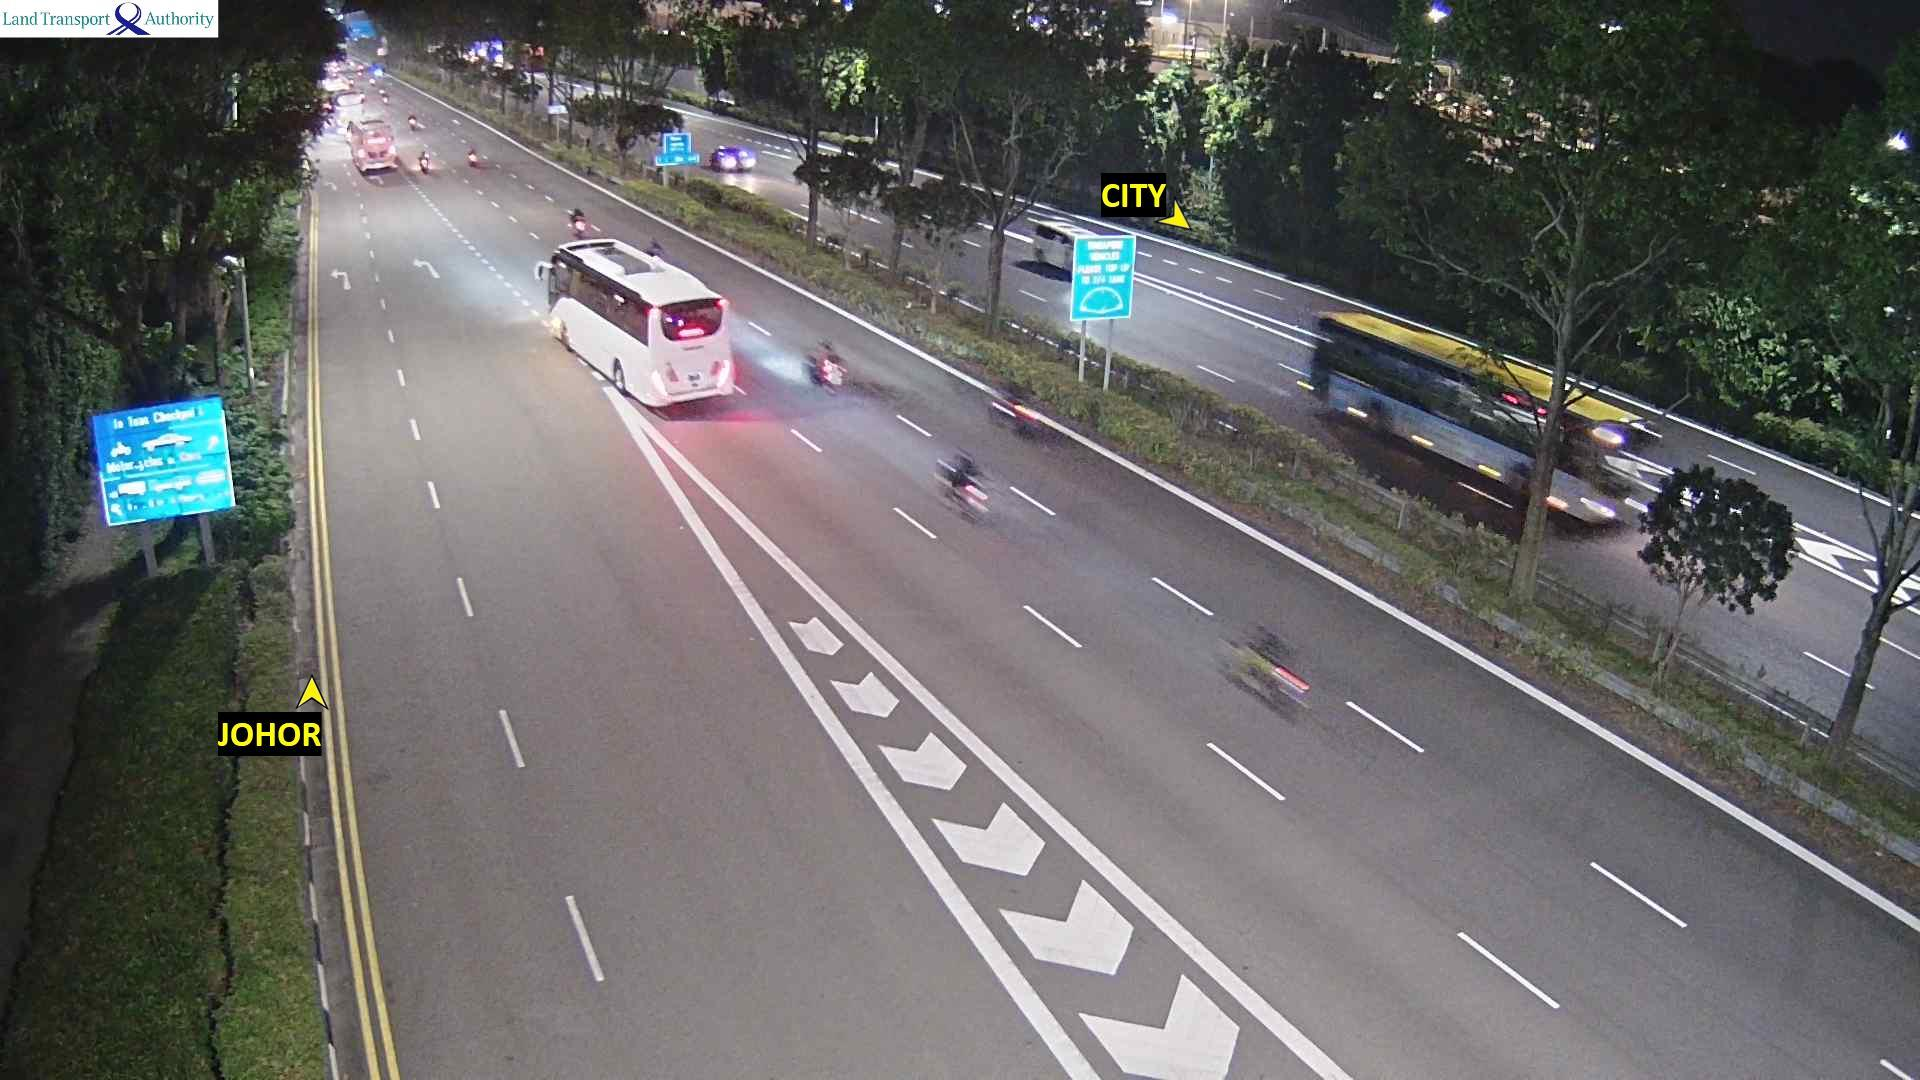incoming: (1598, 418, 1652, 550), (727, 145, 765, 175)
